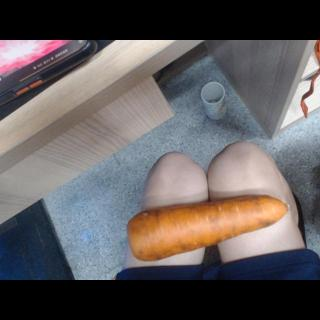carrot: (126, 194, 291, 262)
